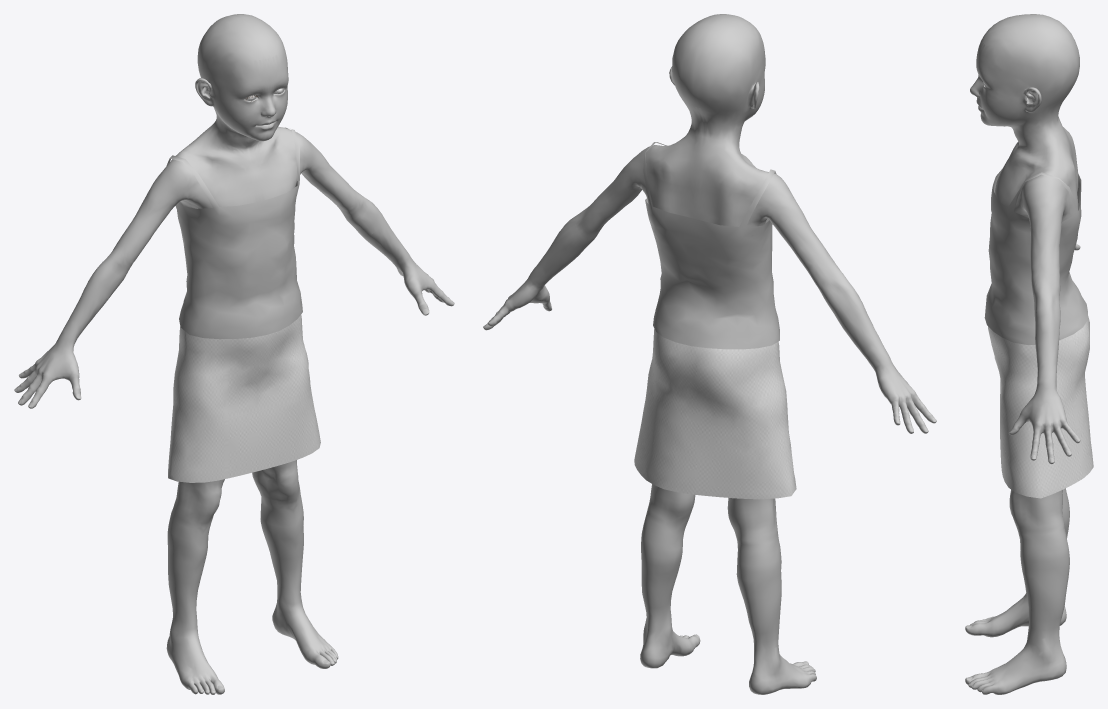
The model's file is kids1.fbx.
The picture shows the model from 3 angles, left to right: view 1: azimuth 30°, elevation 25°; view 2: azimuth 150°, elevation 25°; view 3: azimuth 270°, elevation 25°; orthographic projection. The views are drawn at different scales.
Parts seen in each view (by area): view 1: bodyShape_skin_Shape, kids1; view 2: bodyShape_skin_Shape, kids1; view 3: bodyShape_skin_Shape, kids1.
Part boxes in pixels (<box>): bodyShape_skin_Shape: <box>14,14,454,694</box>; kids1: <box>166,127,320,482</box>; bodyShape_skin_Shape: <box>483,14,936,694</box>; kids1: <box>634,142,796,499</box>; bodyShape_skin_Shape: <box>965,14,1080,694</box>; kids1: <box>984,167,1093,498</box>.
Bounding box in the file's own units: 692 × 992 × 179.
